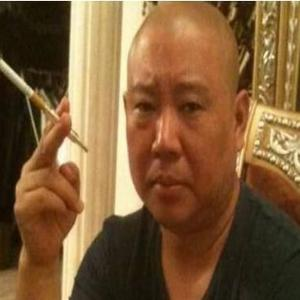cigarette: (1, 57, 74, 139)
